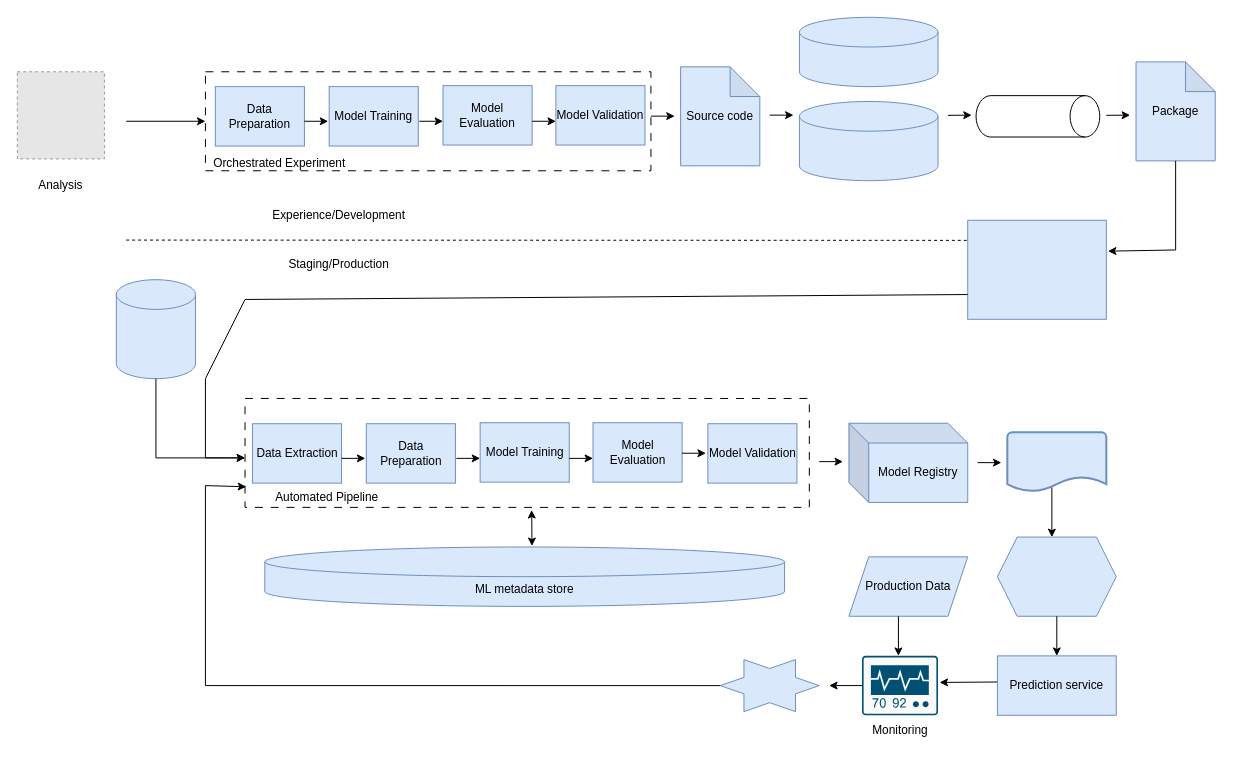
Some shapes in this 1233 by 762 pixel diagram are drawn without their labels. Grey dashed boxes stand in for pictures. The shapes that lost their labels are listed below. From the top down, each one's box as (x1, y1, x2, y2) in pixels, then its label:
(798, 16, 938, 87): Versioning
(975, 95, 1100, 137): CI, Build & test pipeline
(798, 100, 938, 181): Code Repository
(967, 219, 1106, 319): CD: Deployment Pipeline
(115, 279, 196, 379): Feature Store
(1006, 431, 1107, 492): Trained Model
(996, 536, 1116, 616): Model serving
(719, 659, 819, 712): Triggers
